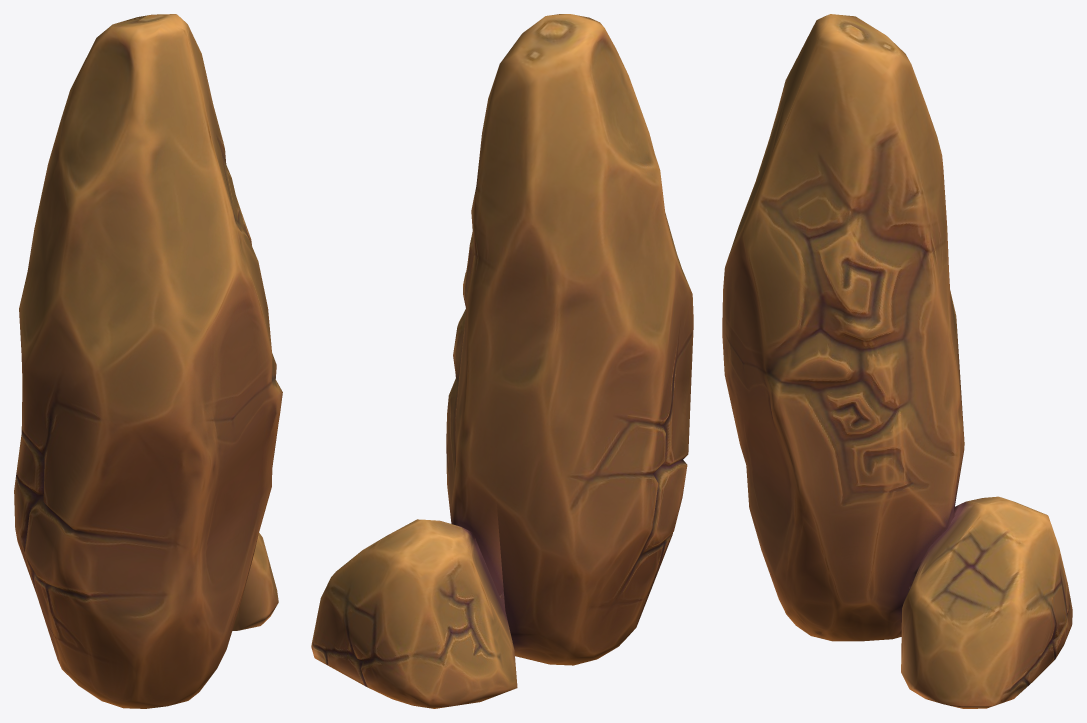
The model's file is Pedra_totem.glb.
The picture shows the model from 3 angles, left to right: view 1: azimuth 30°, elevation 25°; view 2: azimuth 150°, elevation 25°; view 3: azimuth 270°, elevation 25°; orthographic projection. The views are drawn at different scales.
Parts seen in each view (by area): view 1: TCE_Rocks_v03_LP:Group18554; view 2: TCE_Rocks_v03_LP:Group18554; view 3: TCE_Rocks_v03_LP:Group18554.
Boxes of the visible parts, bbox=[...] form: TCE_Rocks_v03_LP:Group18554: bbox=[14, 14, 282, 708]; TCE_Rocks_v03_LP:Group18554: bbox=[311, 14, 693, 708]; TCE_Rocks_v03_LP:Group18554: bbox=[722, 14, 1072, 708].
Bounding box in the file's own units: 0.9685 × 2 × 1.05.
1 material, 1 textured.
